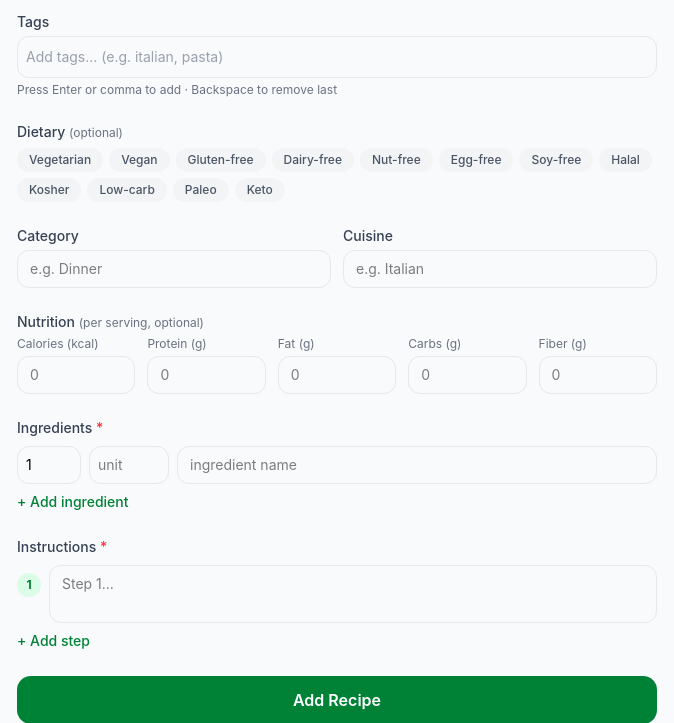
Scenario: RecipeFormPage › ingredient list management › removes a row when clicking the remove button
The width and height of the screenshot is (674, 723).
(page scrolled)
Click the button "+ Add ingredient". click: [73, 502]
box: [17,492,128,512]
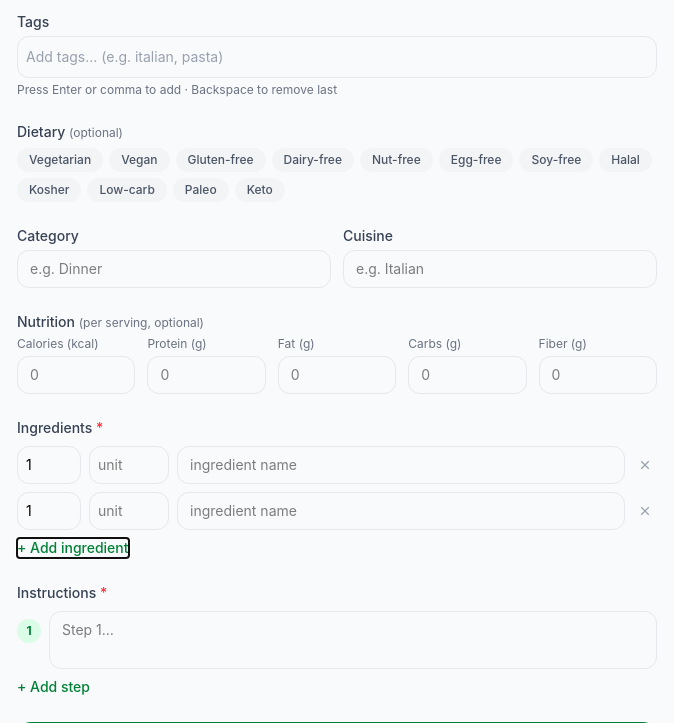
Expected: the number of dropdowns with placeholder "ingredient name" is 2, [177,446,625,484]; [177,492,625,530]
Click the 1st button named "remove ingredient". click: [645, 465]
box: [633,453,657,477]
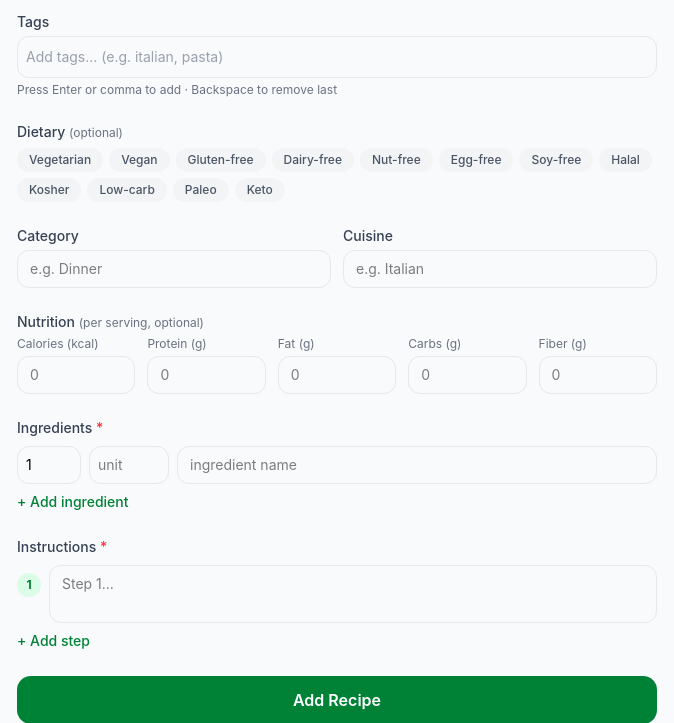
Expected: the number of dropdowns with placeholder "ingredient name" is 1, [177,446,657,484]
